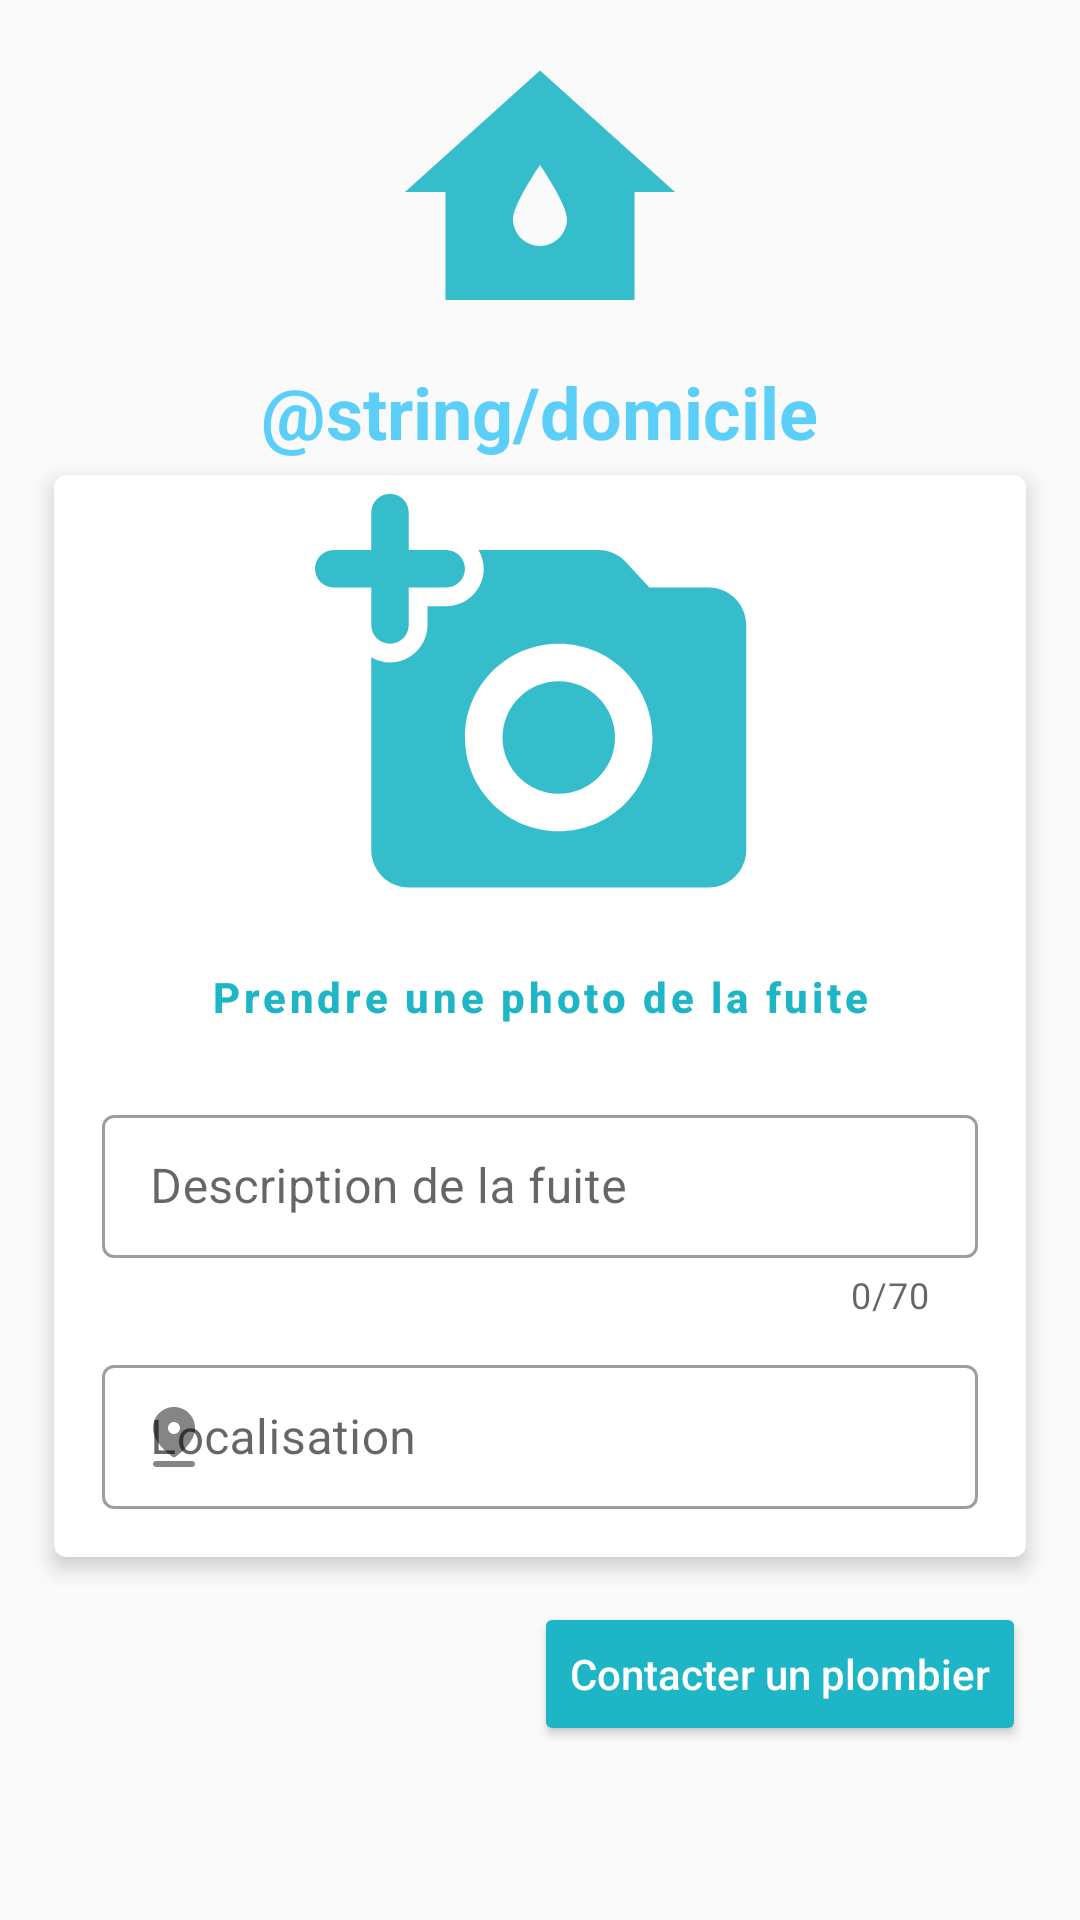

Icon click points for this 1080*1920 phone screenshot, format (x,y):
water leak home: (540,185)
